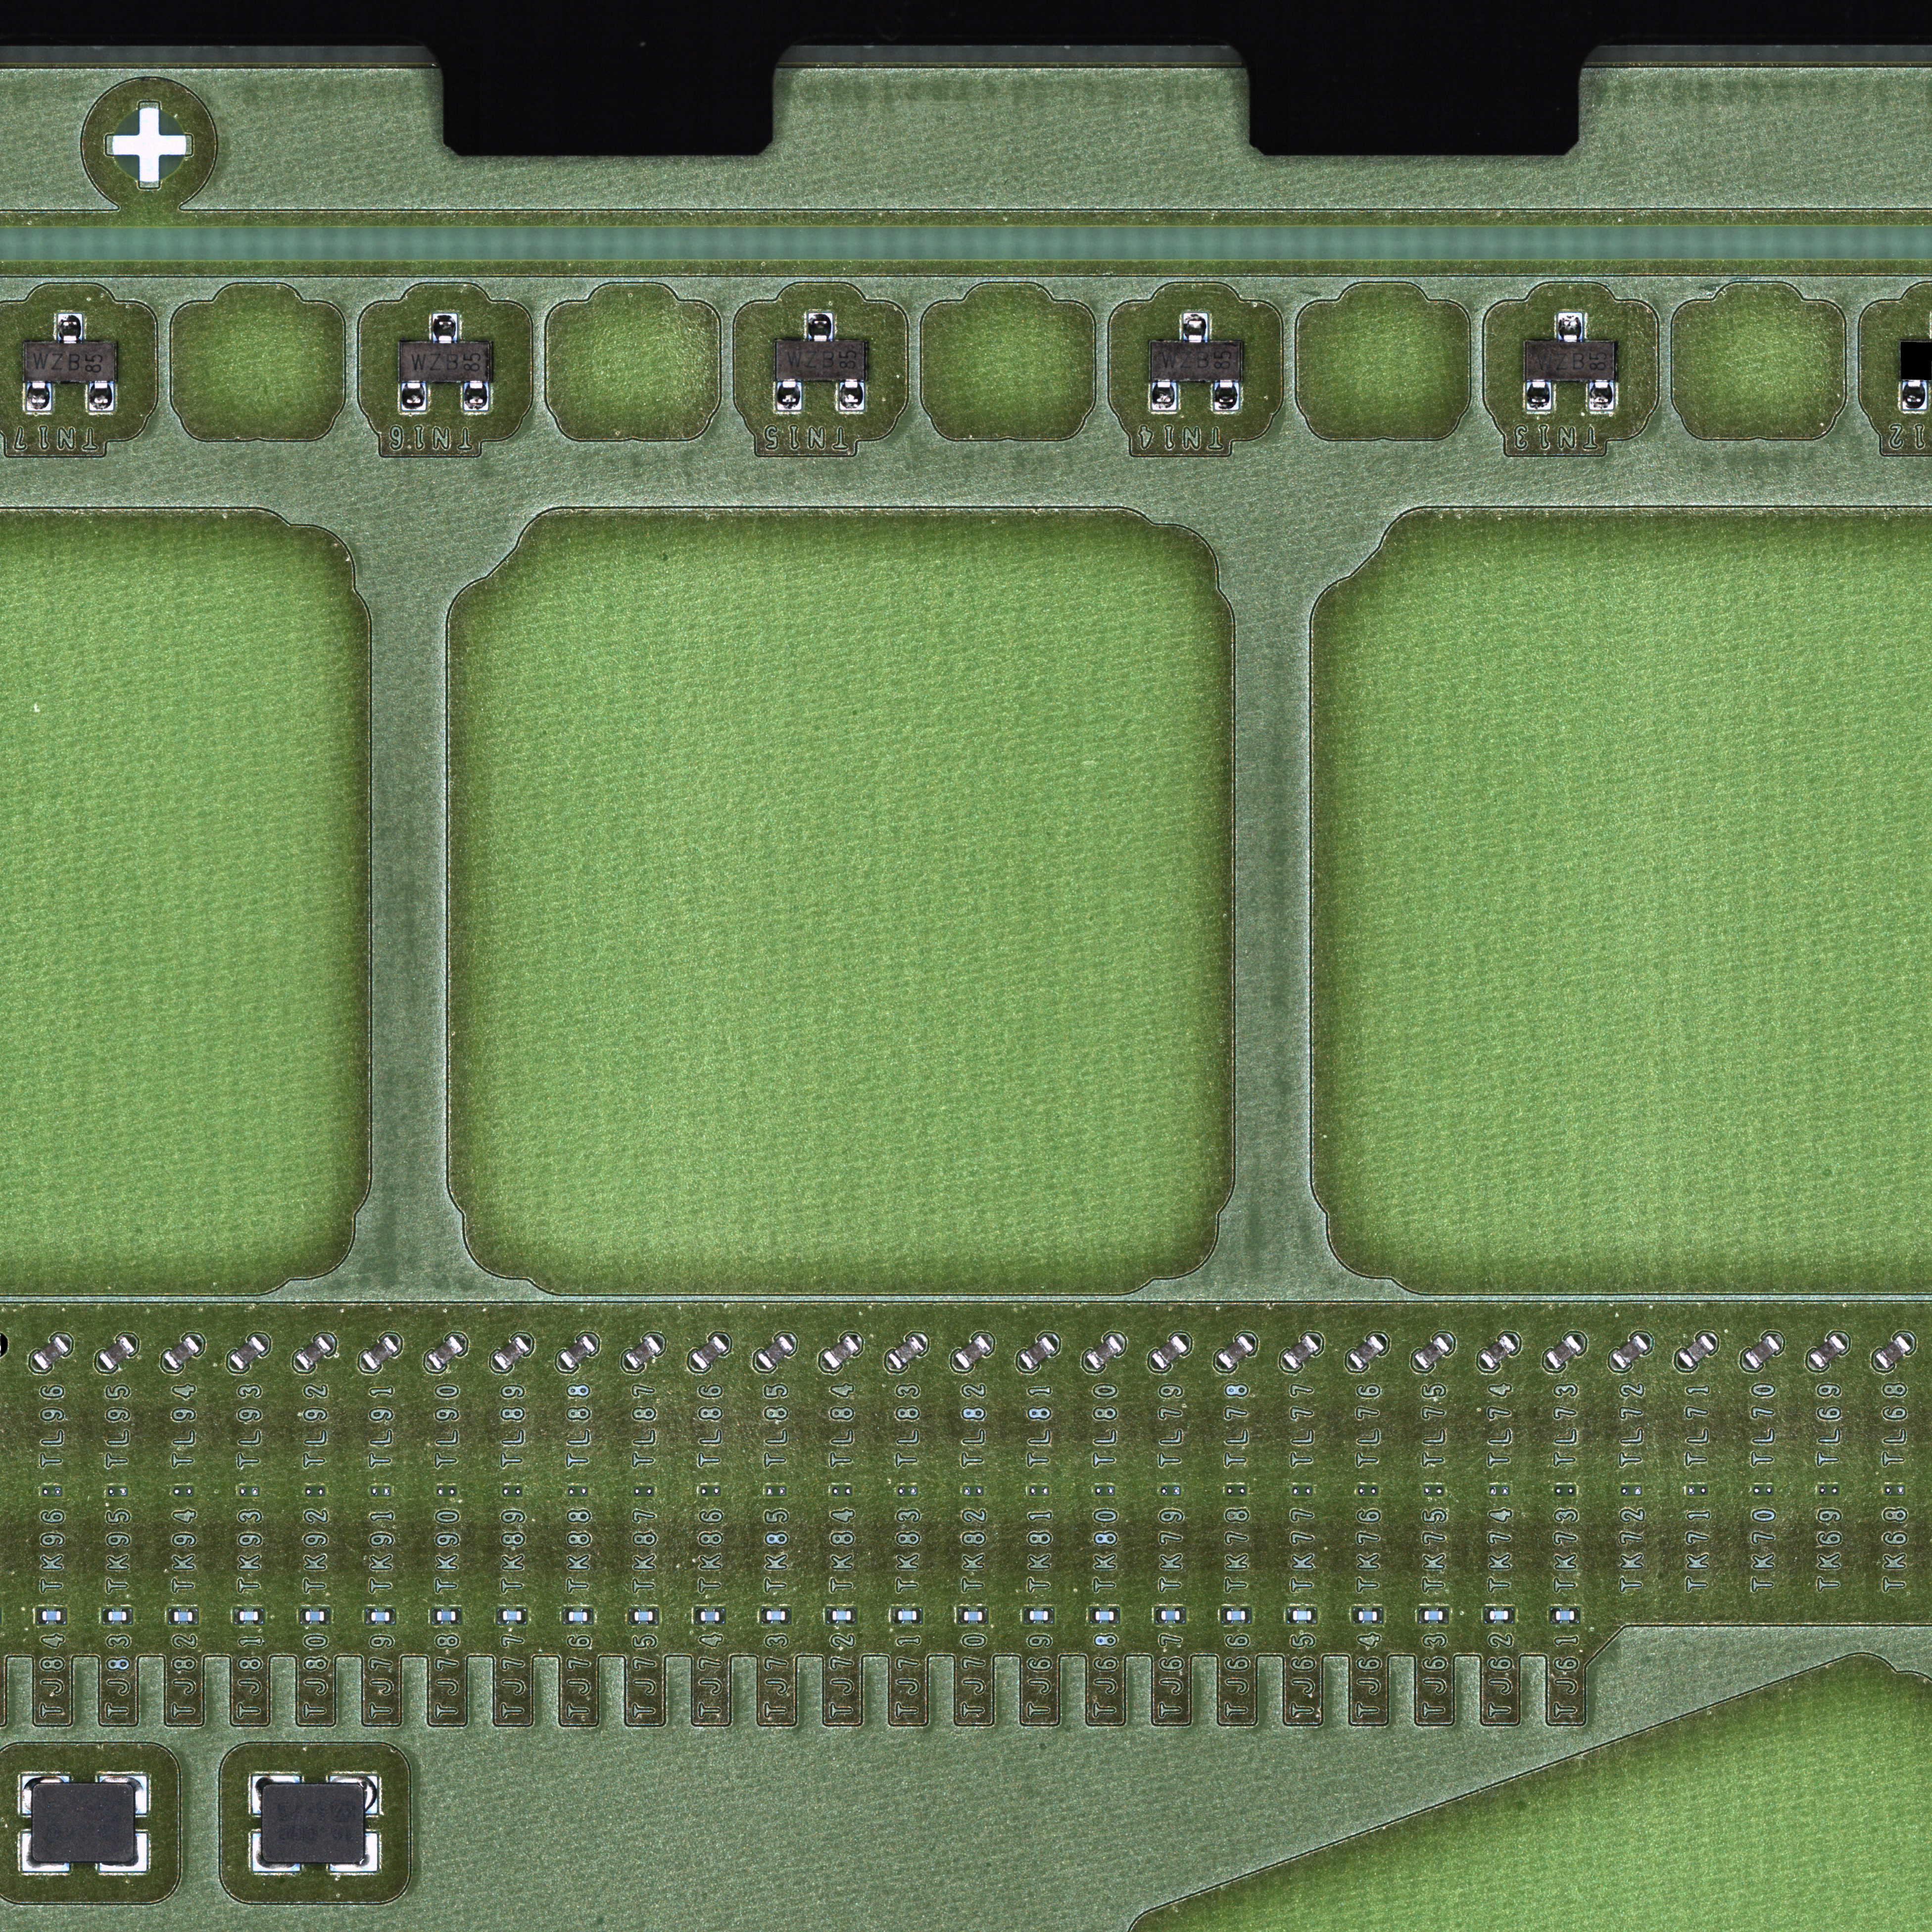Package: (32, 1783, 136, 1865), (262, 1783, 364, 1863), (25, 341, 117, 382), (775, 340, 867, 380), (1150, 341, 1242, 382), (400, 341, 492, 380), (1525, 341, 1617, 380), (888, 1334, 925, 1369), (1019, 1334, 1056, 1369), (1086, 1336, 1123, 1371), (823, 1336, 860, 1369), (1348, 1336, 1385, 1369), (34, 1336, 69, 1369), (99, 1336, 134, 1369), (165, 1336, 200, 1369), (230, 1336, 265, 1369), (297, 1336, 333, 1369), (363, 1336, 398, 1369), (494, 1336, 529, 1369), (561, 1336, 596, 1369), (626, 1336, 662, 1369), (692, 1334, 727, 1368), (1152, 1336, 1187, 1369), (1217, 1336, 1253, 1369), (1283, 1336, 1318, 1369), (1415, 1336, 1451, 1369), (1481, 1334, 1516, 1368), (1546, 1334, 1582, 1368), (1744, 1336, 1780, 1369), (1875, 1336, 1911, 1369), (428, 1336, 464, 1368), (757, 1336, 793, 1368), (955, 1336, 991, 1368), (1614, 1336, 1649, 1368), (1679, 1336, 1714, 1368), (1810, 1336, 1845, 1368), (899, 1610, 916, 1621), (42, 1612, 62, 1621), (108, 1612, 127, 1621), (437, 1612, 456, 1621), (502, 1612, 522, 1621), (766, 1612, 786, 1621), (832, 1612, 851, 1621), (1095, 1612, 1115, 1621), (1161, 1612, 1180, 1621), (1226, 1612, 1246, 1621), (175, 1612, 193, 1621), (241, 1612, 258, 1621), (306, 1612, 324, 1621), (372, 1612, 389, 1621), (570, 1612, 587, 1621), (635, 1612, 653, 1621), (701, 1612, 718, 1621), (964, 1612, 982, 1621), (1030, 1610, 1047, 1619), (1293, 1612, 1311, 1621), (1359, 1612, 1376, 1621), (1424, 1612, 1442, 1621), (1491, 1610, 1509, 1619), (1557, 1612, 1575, 1621)
Solder: (19, 1773, 71, 1817), (249, 1773, 303, 1815), (97, 1831, 149, 1874), (19, 1831, 71, 1874), (97, 1775, 149, 1815), (249, 1831, 301, 1872), (329, 1831, 379, 1872), (329, 1775, 379, 1813), (1900, 380, 1928, 410), (25, 382, 53, 410), (57, 311, 83, 341), (464, 380, 490, 410), (839, 380, 865, 410), (88, 382, 115, 410), (432, 313, 458, 341), (400, 382, 426, 410), (807, 311, 833, 340), (777, 380, 803, 409), (1152, 382, 1178, 410), (1214, 382, 1240, 410), (1182, 313, 1208, 341), (1525, 382, 1552, 410), (1557, 313, 1583, 341), (1589, 382, 1615, 410), (58, 1330, 76, 1350), (255, 1330, 272, 1350), (1111, 1330, 1129, 1350), (1307, 1330, 1325, 1350), (124, 1332, 142, 1350), (189, 1330, 207, 1348), (387, 1330, 405, 1348), (518, 1330, 536, 1348), (651, 1330, 669, 1348), (717, 1330, 734, 1348), (782, 1330, 800, 1348), (1046, 1329, 1063, 1346), (1177, 1332, 1194, 1350), (1242, 1332, 1260, 1350), (1571, 1330, 1589, 1348), (1606, 1355, 1624, 1373), (1769, 1330, 1787, 1348), (1900, 1330, 1918, 1348), (915, 1329, 931, 1348), (1440, 1330, 1456, 1350), (28, 1355, 44, 1373), (94, 1357, 110, 1375), (159, 1355, 175, 1373), (225, 1355, 241, 1373), (292, 1355, 308, 1373), (322, 1330, 338, 1348), (357, 1355, 373, 1373), (423, 1355, 439, 1373), (453, 1330, 469, 1348), (488, 1355, 504, 1373), (556, 1355, 571, 1373), (586, 1330, 602, 1348), (621, 1355, 637, 1373), (686, 1355, 702, 1373), (752, 1355, 768, 1373), (819, 1355, 835, 1373), (849, 1330, 865, 1348), (883, 1355, 899, 1373), (950, 1355, 966, 1373), (980, 1330, 996, 1348), (1081, 1357, 1097, 1375), (1146, 1355, 1162, 1373), (1212, 1357, 1228, 1375), (1277, 1355, 1293, 1373), (1343, 1357, 1359, 1375), (1375, 1330, 1391, 1348), (1410, 1357, 1426, 1375), (1476, 1355, 1491, 1373), (1506, 1330, 1522, 1348), (1541, 1355, 1557, 1373), (1638, 1330, 1654, 1348), (1674, 1355, 1690, 1373), (1704, 1330, 1720, 1348), (1739, 1355, 1755, 1373), (1805, 1355, 1821, 1373), (1835, 1330, 1851, 1348), (1870, 1355, 1886, 1373), (1016, 1355, 1030, 1373), (1113, 1608, 1122, 1624), (60, 1608, 67, 1624), (127, 1608, 134, 1624), (168, 1608, 175, 1624), (193, 1608, 200, 1624), (234, 1608, 241, 1624), (299, 1608, 306, 1624), (324, 1608, 331, 1624), (389, 1608, 396, 1624), (456, 1608, 464, 1624), (497, 1608, 504, 1624), (563, 1608, 570, 1624), (628, 1608, 635, 1624), (653, 1608, 660, 1624), (694, 1608, 701, 1624), (718, 1608, 725, 1624), (784, 1608, 791, 1624), (851, 1608, 858, 1624), (957, 1608, 964, 1624), (982, 1608, 989, 1624), (1178, 1608, 1185, 1624), (1286, 1608, 1293, 1624), (1311, 1608, 1318, 1624), (1417, 1608, 1424, 1624), (1442, 1608, 1449, 1624), (1550, 1608, 1557, 1624), (1575, 1608, 1582, 1624), (258, 1610, 265, 1624), (522, 1610, 529, 1624), (587, 1610, 594, 1624), (892, 1608, 899, 1622), (916, 1608, 924, 1622), (1047, 1608, 1054, 1622), (1246, 1608, 1253, 1622), (1352, 1608, 1359, 1622), (1376, 1608, 1384, 1622), (1484, 1608, 1491, 1622), (1509, 1608, 1516, 1622), (37, 1608, 42, 1624), (103, 1608, 108, 1624), (366, 1608, 372, 1624), (432, 1608, 437, 1624), (761, 1608, 766, 1624), (826, 1608, 832, 1624), (1090, 1608, 1095, 1624), (1155, 1608, 1161, 1624), (1024, 1608, 1030, 1622), (1221, 1608, 1226, 1622)
